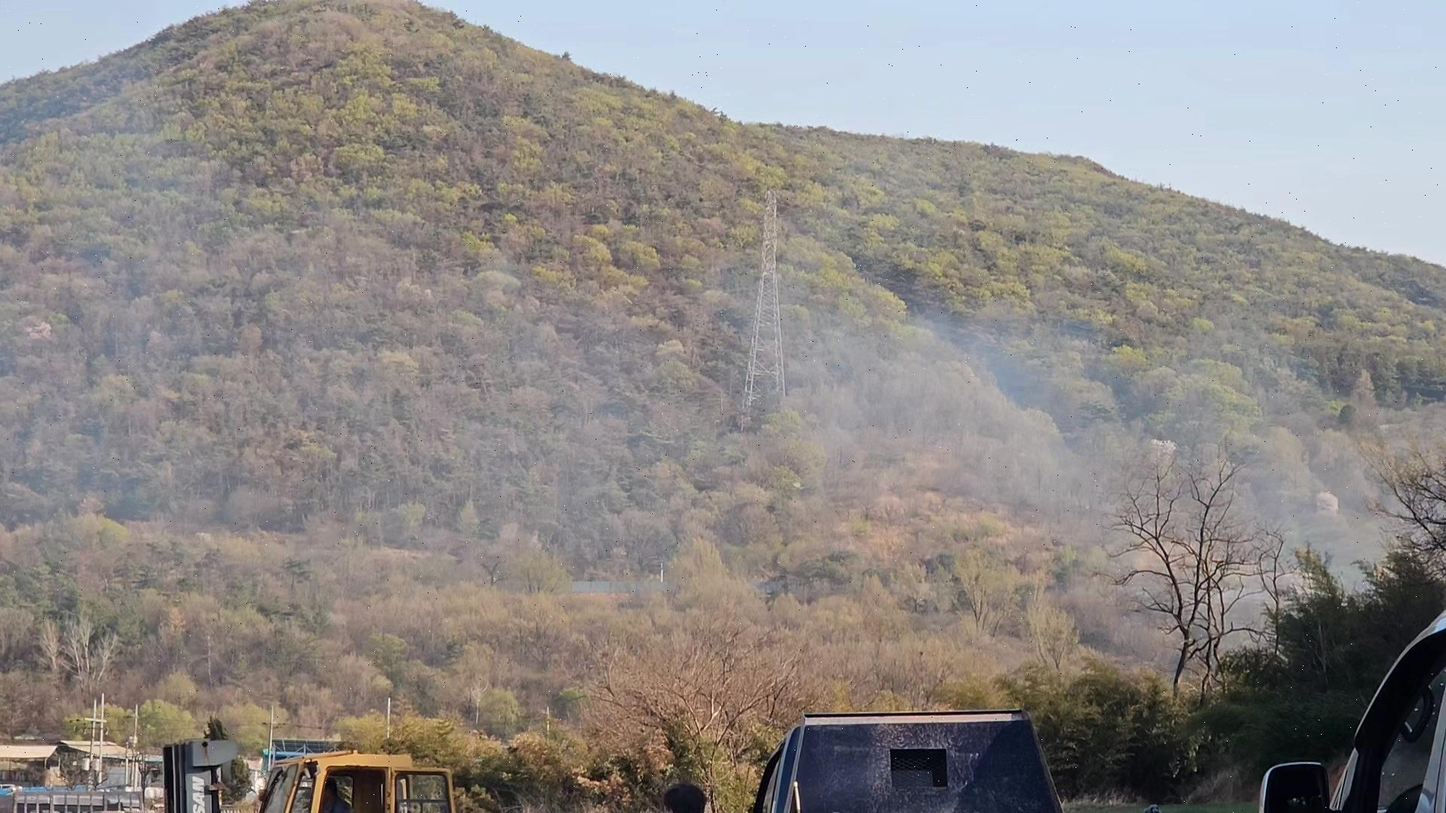smoke: (482, 277, 1370, 635)
